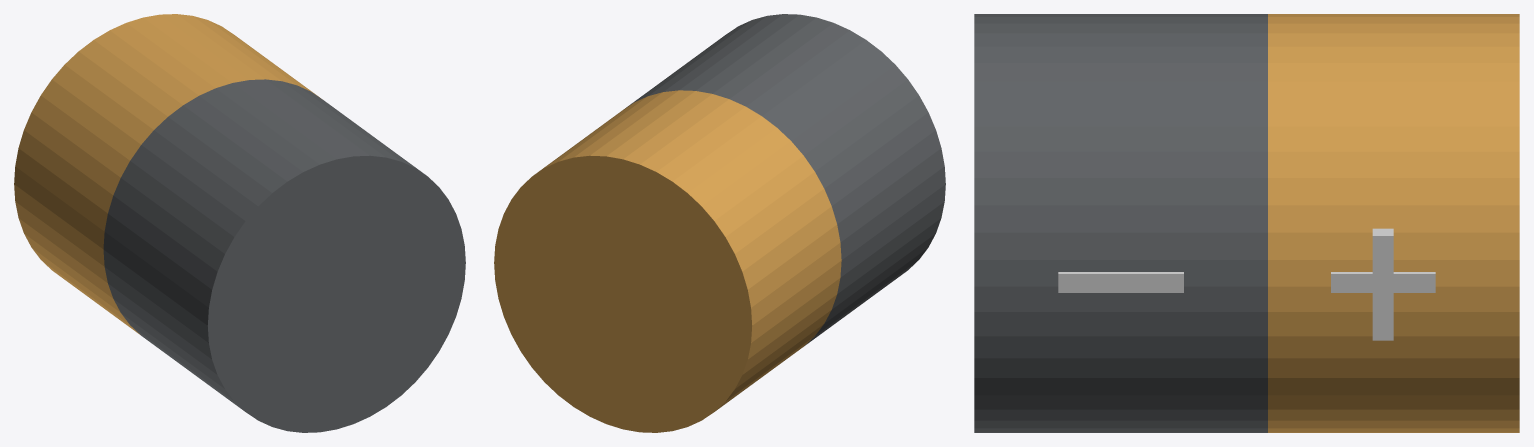
File: pilha.glb
3 views of the same model, side by side, from view 1: azimuth 30°, elevation 25°; view 2: azimuth 150°, elevation 25°; view 3: azimuth 270°, elevation 25° (orthographic). The views are drawn at different scales.
Parts seen in each view (by area): view 1: Mesh_Mesh_head_geo.001_lambert2SG.001; view 2: Mesh_Mesh_head_geo.001_lambert2SG.001; view 3: Mesh_Mesh_head_geo.001_lambert2SG.001.
Part boxes in pixels (box(x1,y1,x2,y2)): Mesh_Mesh_head_geo.001_lambert2SG.001: box(14, 14, 465, 432); Mesh_Mesh_head_geo.001_lambert2SG.001: box(494, 14, 945, 432); Mesh_Mesh_head_geo.001_lambert2SG.001: box(974, 14, 1519, 432).
Bounding box in the file's own units: 20 × 20 × 26.
